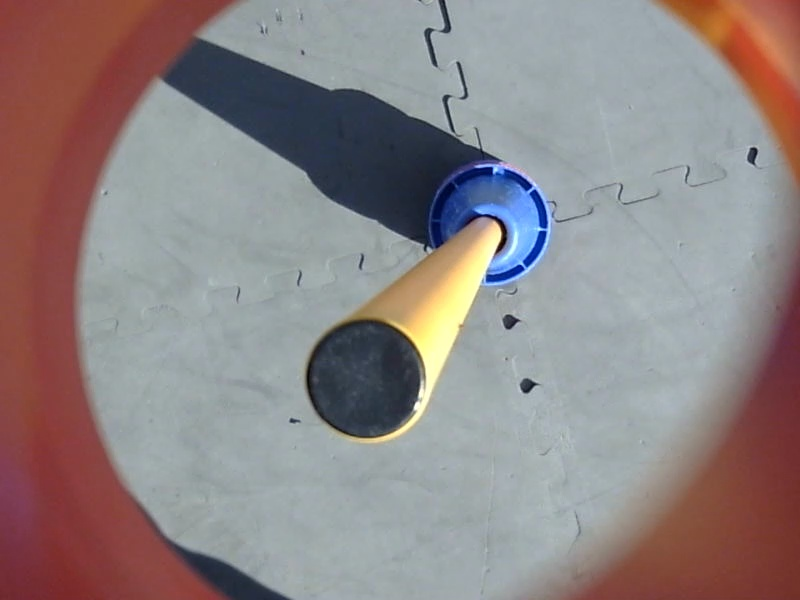tip: (295, 311, 439, 452)
